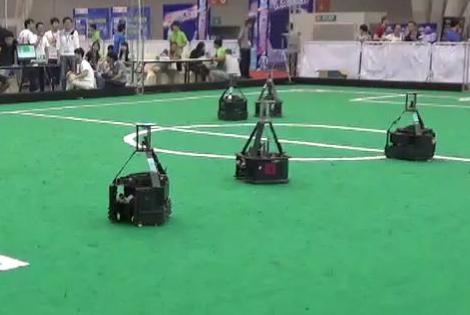robot: (102, 116, 179, 230), (230, 95, 294, 185), (384, 87, 443, 167)
